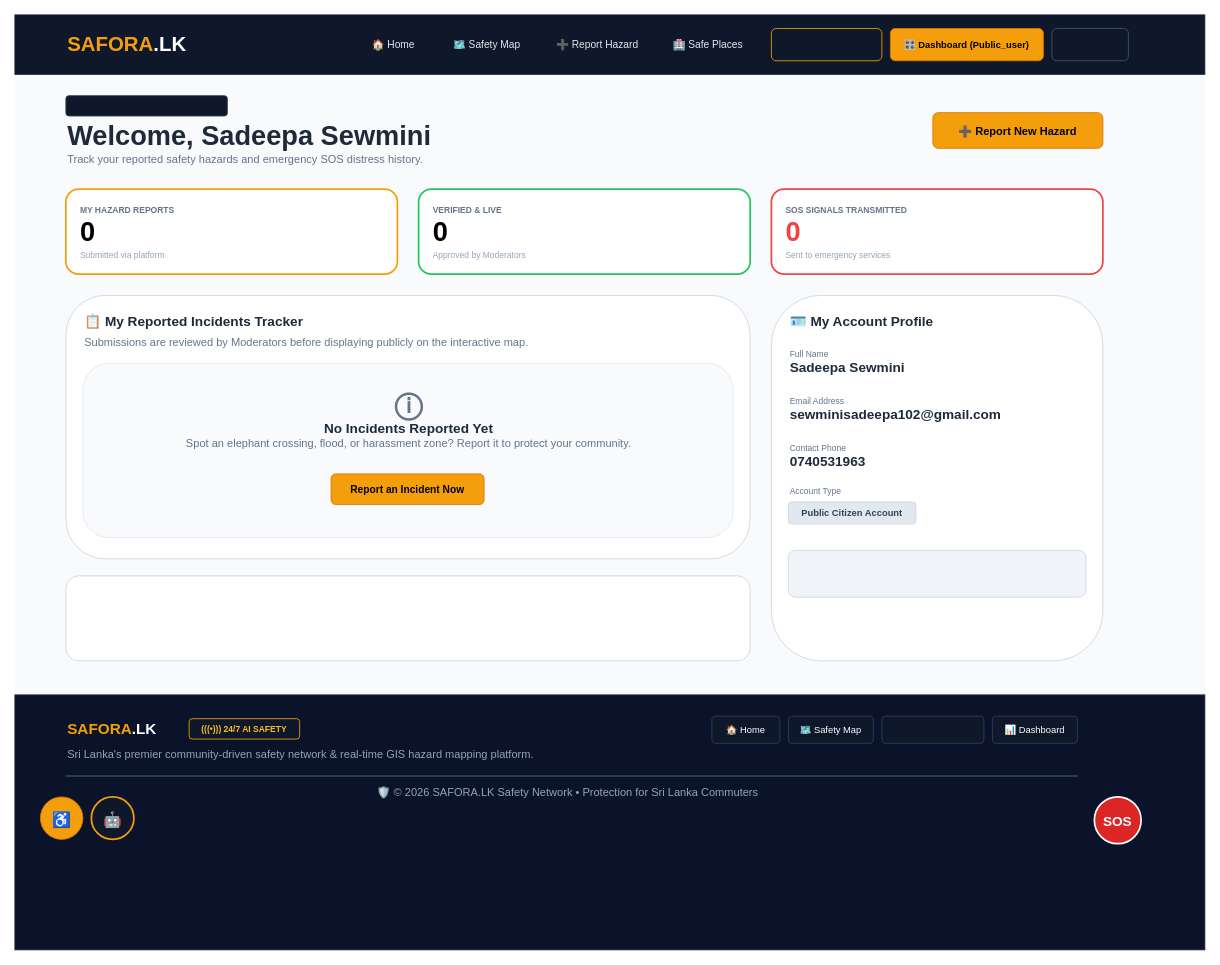
Image size: 1220x965. Some labels were removed from this diagram. The shapes that lost their labels are listed below. From the top down, each one's box as (x1, y1, x2, y2) in pixels, then its label:
(771, 28, 882, 61): 📞 SOS Contacts
(1051, 28, 1128, 61): 🚪 Logout
(65, 95, 227, 116): 👤 PUBLIC CITIZEN DASHBOARD
(788, 550, 1086, 597): 🛡️ Public citizen profile for reporting safety hazards & emergency SOS signals.
(65, 575, 750, 661): 🔔 My Emergency SOS Signal History No Emergency SOS alerts triggered.
(881, 715, 984, 743): ⚠️ Report Hazard
